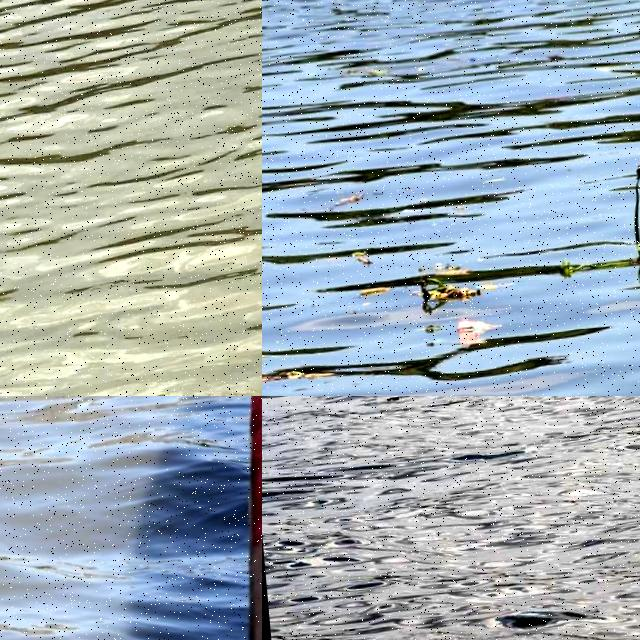water-hyacinth: (571, 164, 640, 273), (539, 397, 575, 411)
